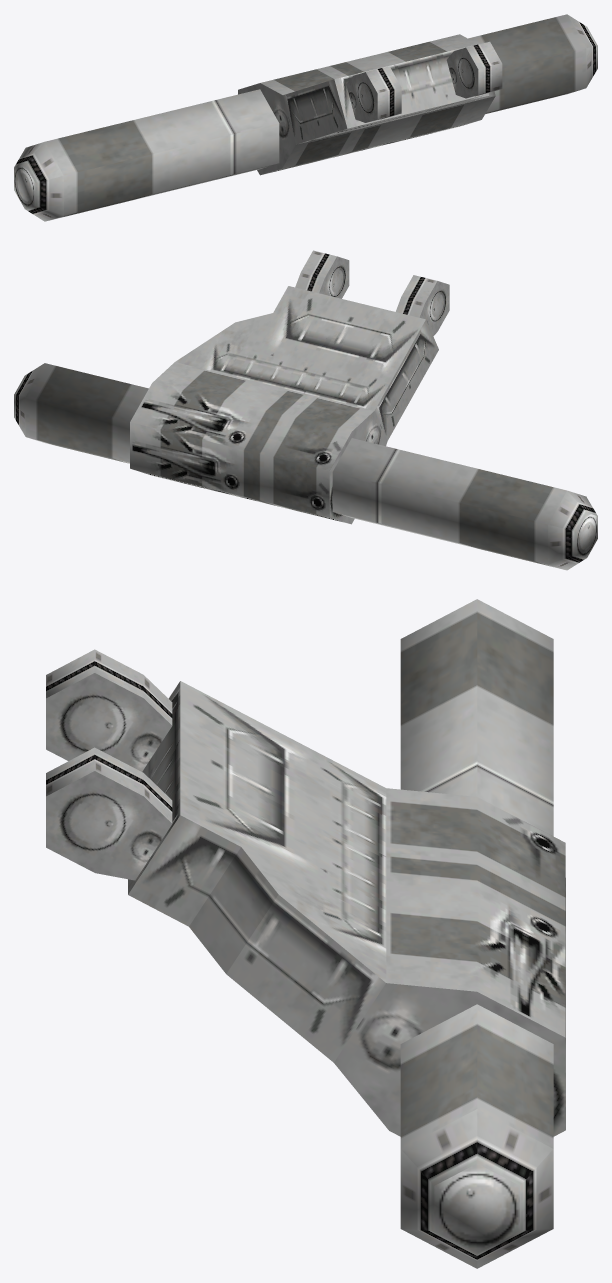
The model's file is PWArmL1.obj.
3 renders of one model, top to bottom at view 1: azimuth 30°, elevation 25°; view 2: azimuth 150°, elevation 25°; view 3: azimuth 270°, elevation 25°, orthographic. The views are drawn at different scales.
Parts seen in each view (by area): view 1: L_10; view 2: L_10; view 3: L_10.
Part boxes in pixels (x1=…): L_10: x1=14, y1=14, x2=597, y2=221; L_10: x1=14, y1=250, x2=597, y2=570; L_10: x1=46, y1=599, x2=565, y2=1268.
Bounding box in the file's own units: 67.05 × 19.49 × 26.84.
Materials: 1 (1 with a texture image).
